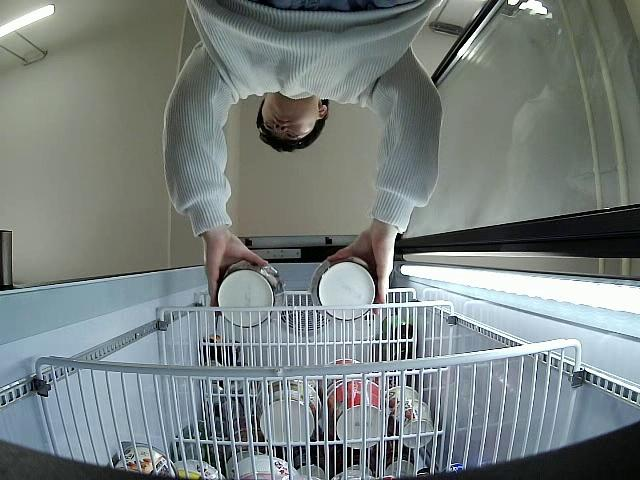00_hand: (327, 228, 395, 316), (204, 233, 267, 305)
07_buldak_L: (217, 259, 285, 329), (310, 256, 377, 323)
